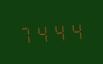four: (34, 21, 49, 44), (66, 18, 81, 41), (50, 20, 65, 42)
seven: (18, 22, 33, 45)
